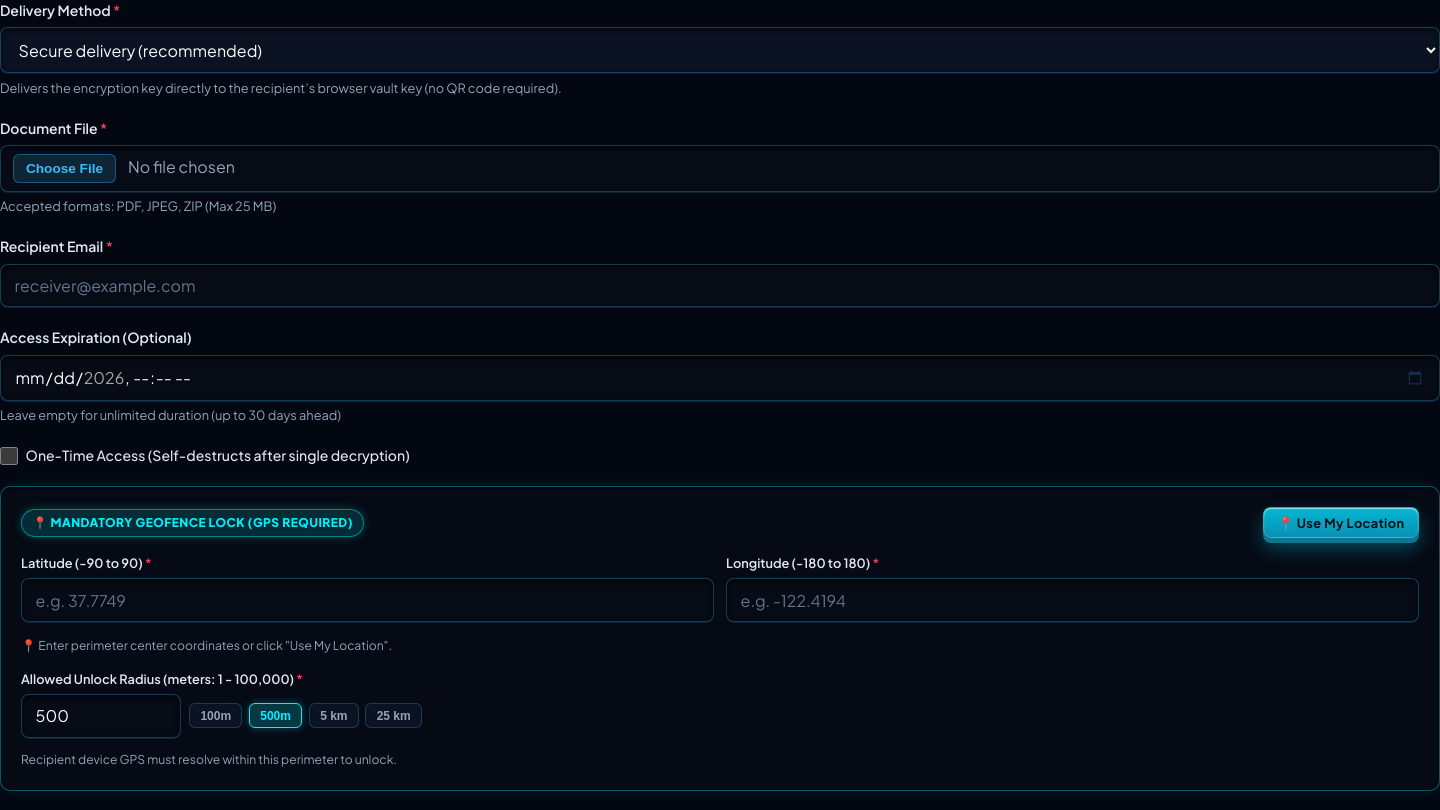
Test: UploadForm Component Tests › Phase 7 Batch 2 Secure Delivery & Vault Key Integration › disables submit button and shows warning when recipient has no registered vault key in wrapped mode
The width and height of the screenshot is (1440, 810).
Earlier steps of the test are not shown.
In the field labelled "Recipient Email *": (720, 286) [0,264,1439,308], type "nokey@example.com"
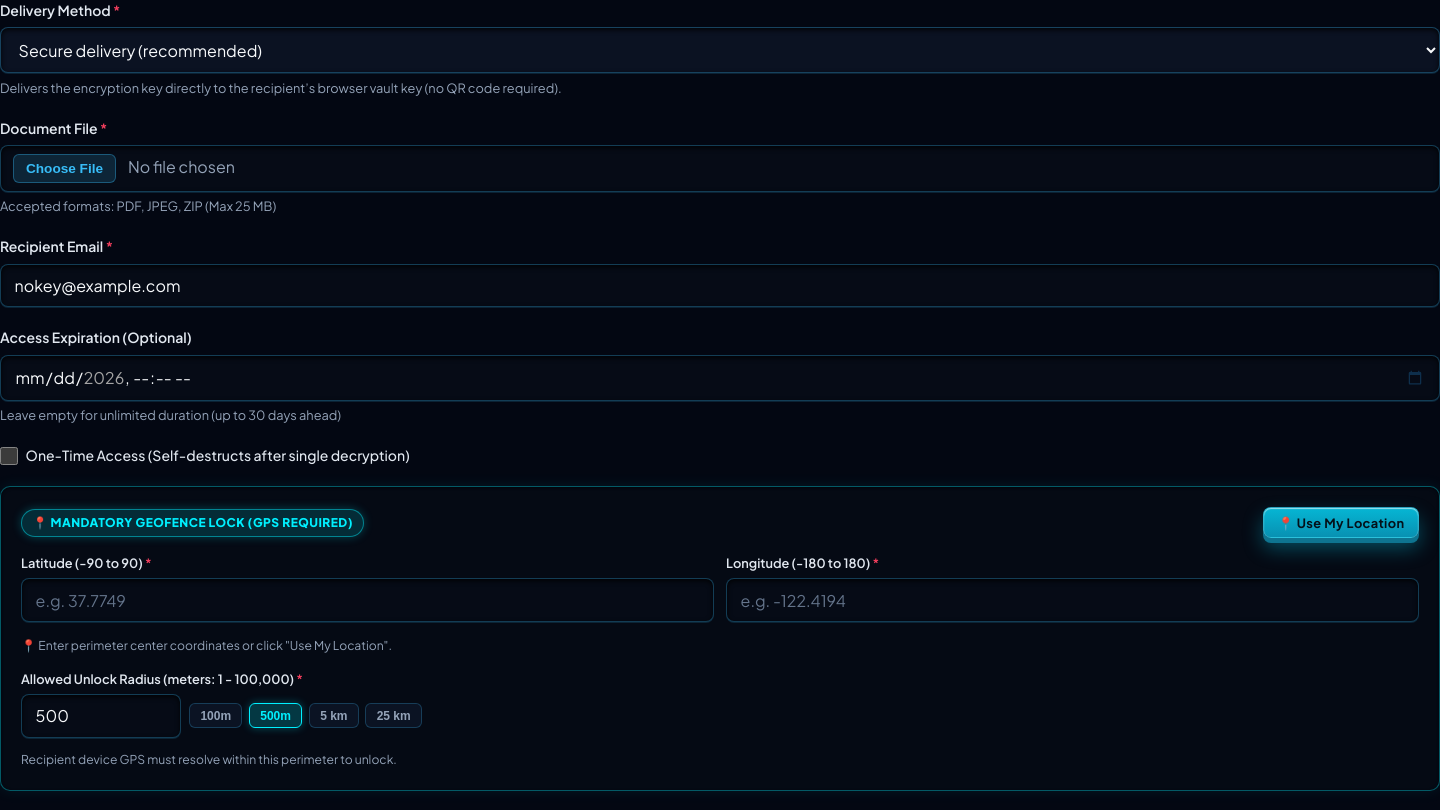
Leave the field labelled "Recipient Email *", box [0,264,1439,308]
(page scrolled)
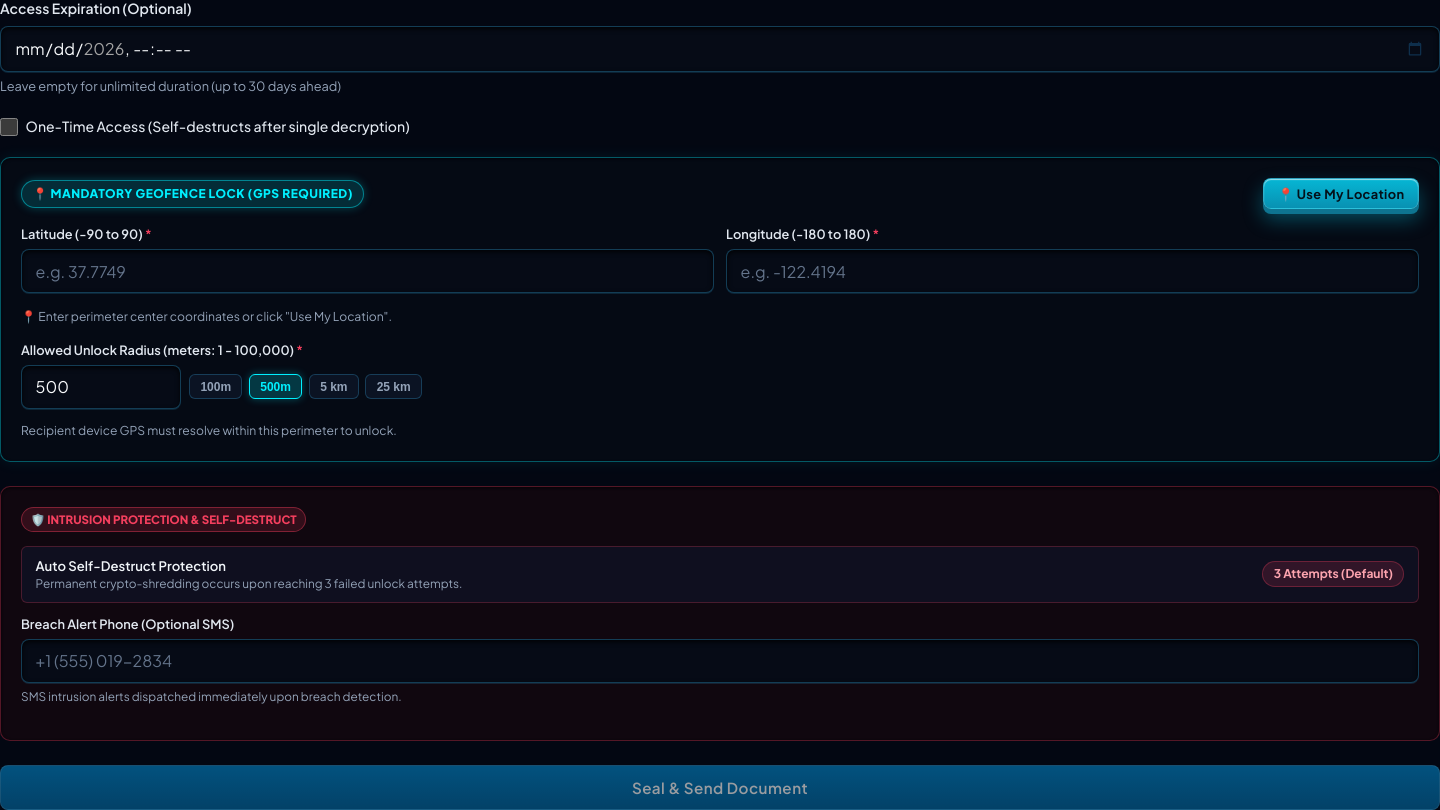
Check: the button "Seal & Send Document" is disabled, box [0,764,1439,809]
